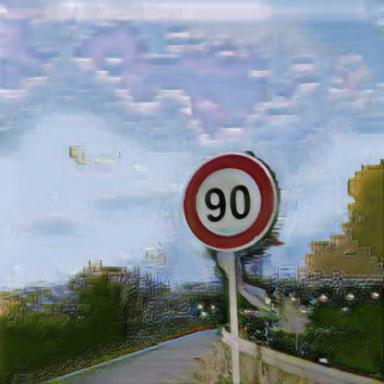Speed_limit_90: (185, 154, 278, 250)
